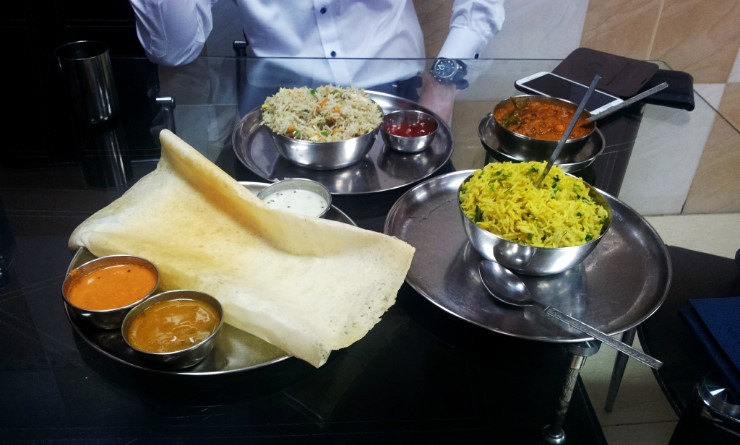plain rice: (474, 165, 595, 240), (272, 87, 379, 140)
